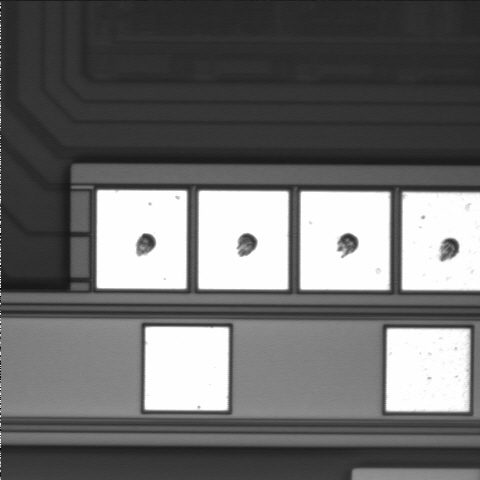pad: (97, 190, 187, 289), (300, 192, 390, 290), (199, 191, 288, 289), (145, 327, 229, 410), (386, 329, 470, 411)
